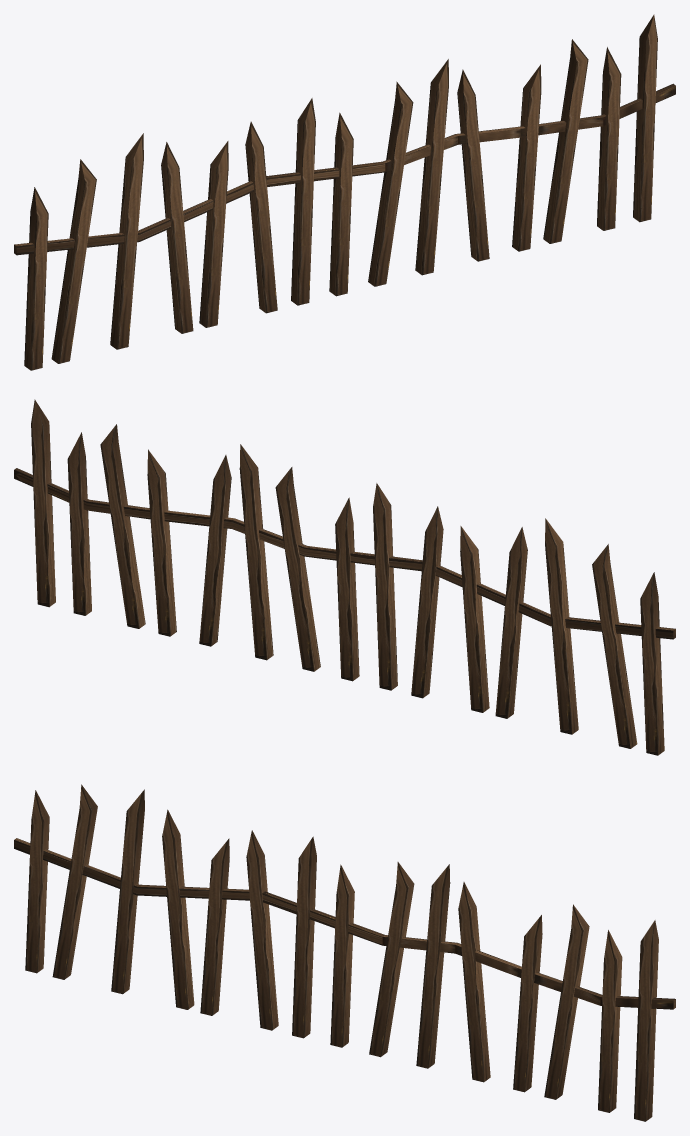
Rendered from ETC0610015.fbx.
The picture shows the model from 3 angles, top to bottom: view 1: azimuth 30°, elevation 25°; view 2: azimuth 150°, elevation 25°; view 3: azimuth 330°, elevation 25°; orthographic projection.
Visible parts, largest first — view 1: smETC0610015; view 2: smETC0610015; view 3: smETC0610015.
Boxes of the visible parts, x1,y1,x2,y2 form: smETC0610015: [14, 14, 675, 370]; smETC0610015: [14, 399, 675, 755]; smETC0610015: [14, 784, 675, 1121].
Size of the model in its own units: 386 by 116 by 6.83.
1 material, 1 textured.
